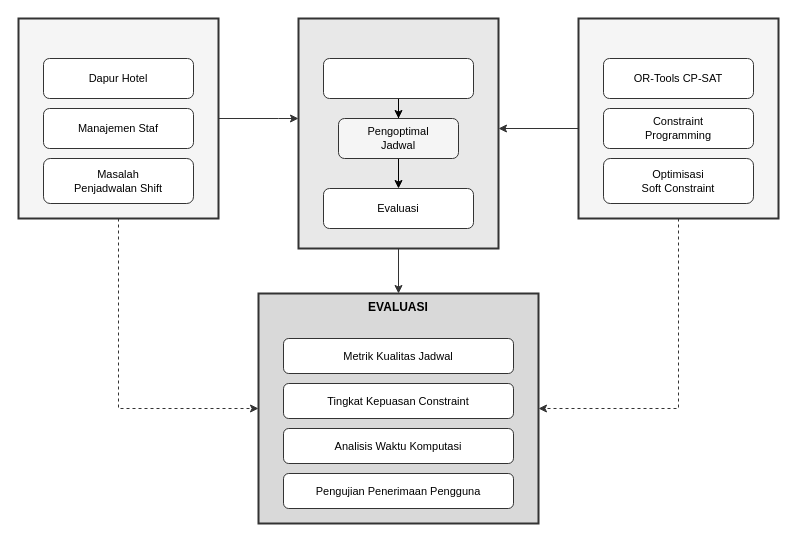
Some shapes in this 796 by 541 pixel diagram are drawn without their labels. Each missing label, with the box of its shape:
BASIS PENGETAHUAN: (577, 17, 779, 219)
LINGKUNGAN: (17, 17, 219, 219)
PENELITIAN: (297, 17, 499, 249)
Pengembangan: (322, 58, 474, 98)
